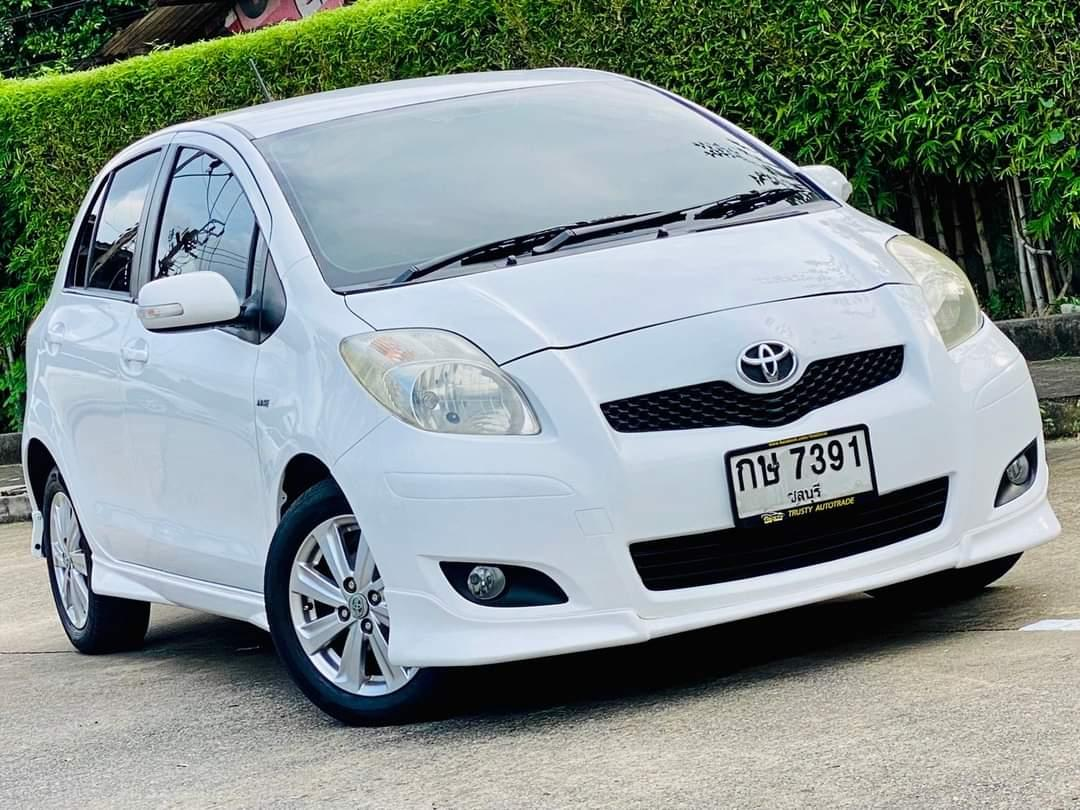license-plate: (716, 419, 885, 533)
